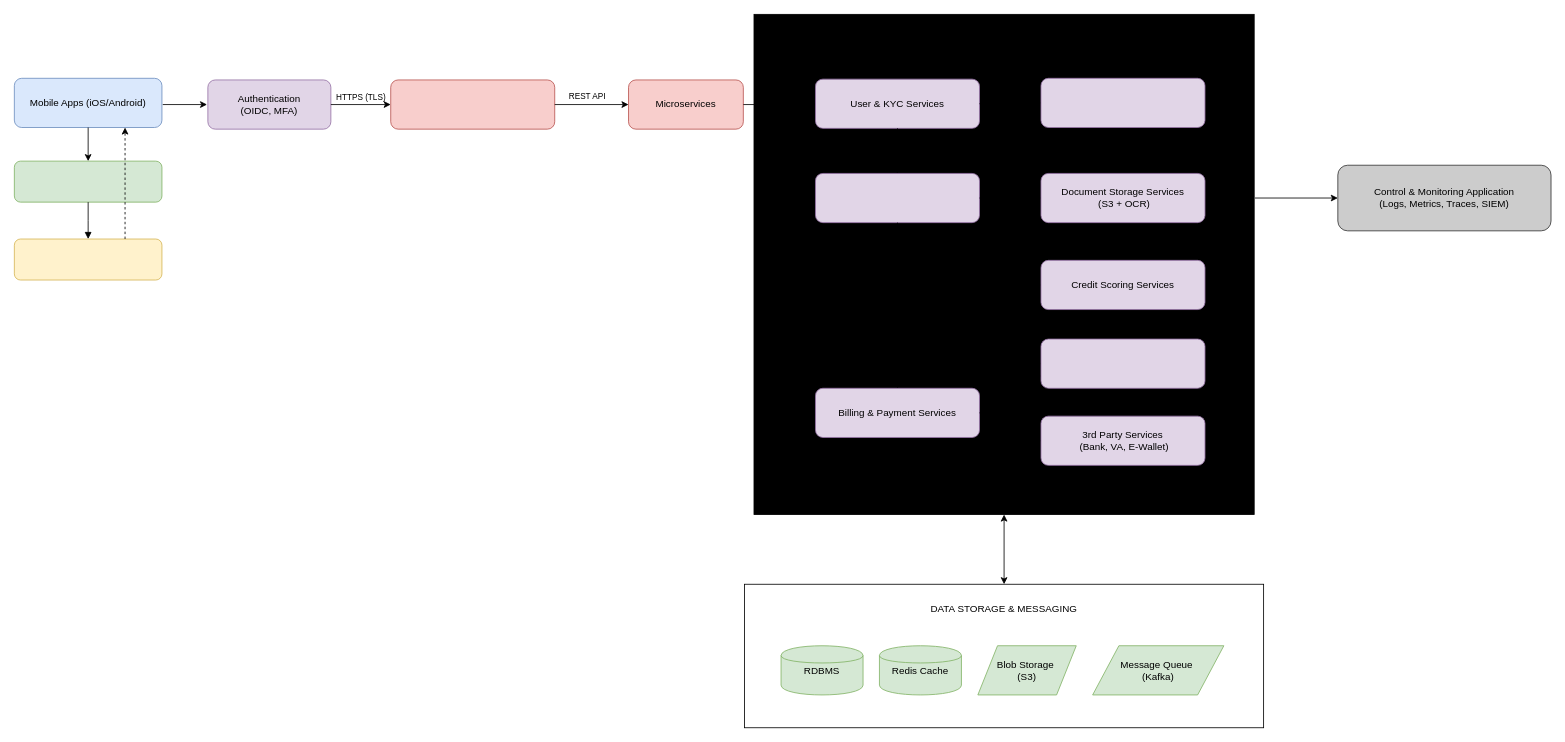
Image size: 1565x742. Some labels were removed from this diagram. Each missing label, with the centre of its shape:
"3rd Party Services (eKYC, Dukcapil, AML)" goes at (x=1122, y=102).
"API Gateway" goes at (x=472, y=104).
"Loan Process Services (Application, Offer, Approval)" goes at (x=897, y=198).
"Login Biometrik (Device)" goes at (x=88, y=181).
"Notification Services (Email/SMS)" goes at (x=1122, y=363).
"OS Keychain & Secure Enclave" goes at (x=88, y=259).
